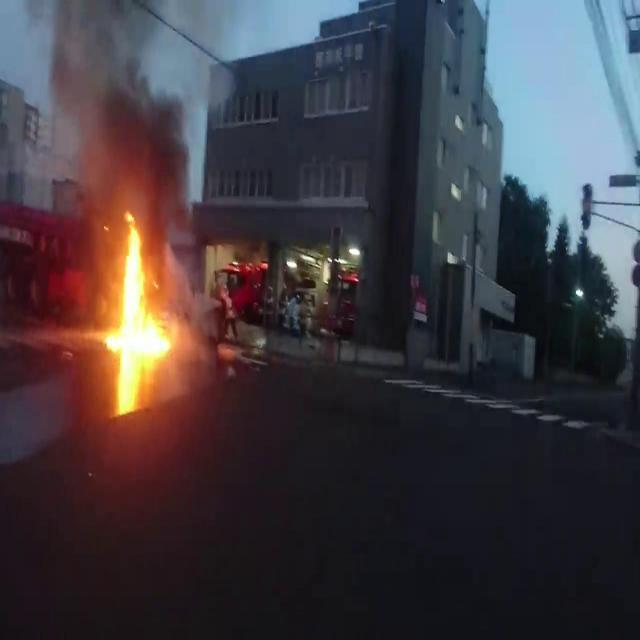Fire: (112, 206, 172, 416)
Smoke: (47, 0, 182, 200)
